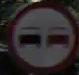No overtake: (11, 6, 73, 62)
